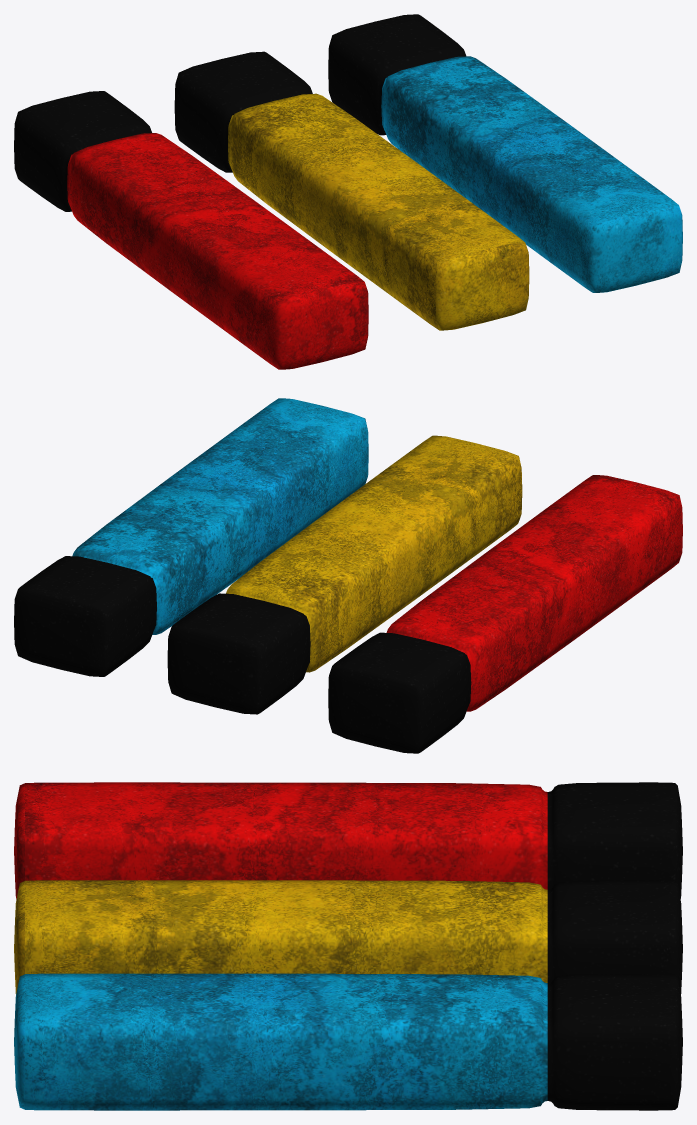
File: Highlighters.fbx
The picture shows the model from 3 angles, top to bottom: view 1: azimuth 30°, elevation 25°; view 2: azimuth 150°, elevation 25°; view 3: azimuth 270°, elevation 25°; orthographic projection. The views are drawn at different scales.
Parts seen in each view (by area): view 1: Cube.004; view 2: Cube.004; view 3: Cube.004.
Boxes of the visible parts, left/top/right/bottom form: Cube.004: left=14, top=14, right=682, bottom=369; Cube.004: left=14, top=398, right=682, bottom=753; Cube.004: left=14, top=782, right=682, bottom=1110.
Size of the model in its own units: 30.91 by 5.37 by 35.06.
1 material, 1 textured.
